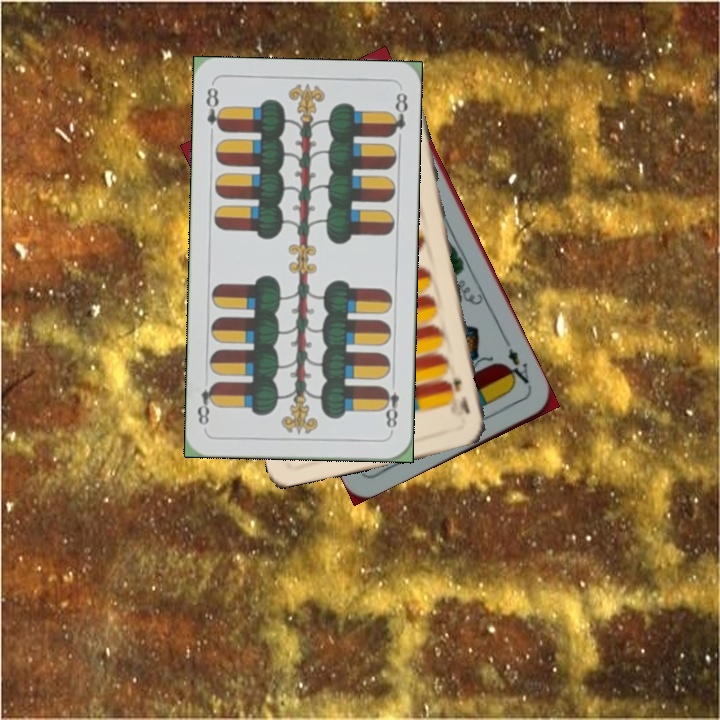E10: (449, 373, 473, 417)
E8: (202, 83, 227, 134), (378, 383, 402, 435)
EA: (501, 344, 534, 392)
